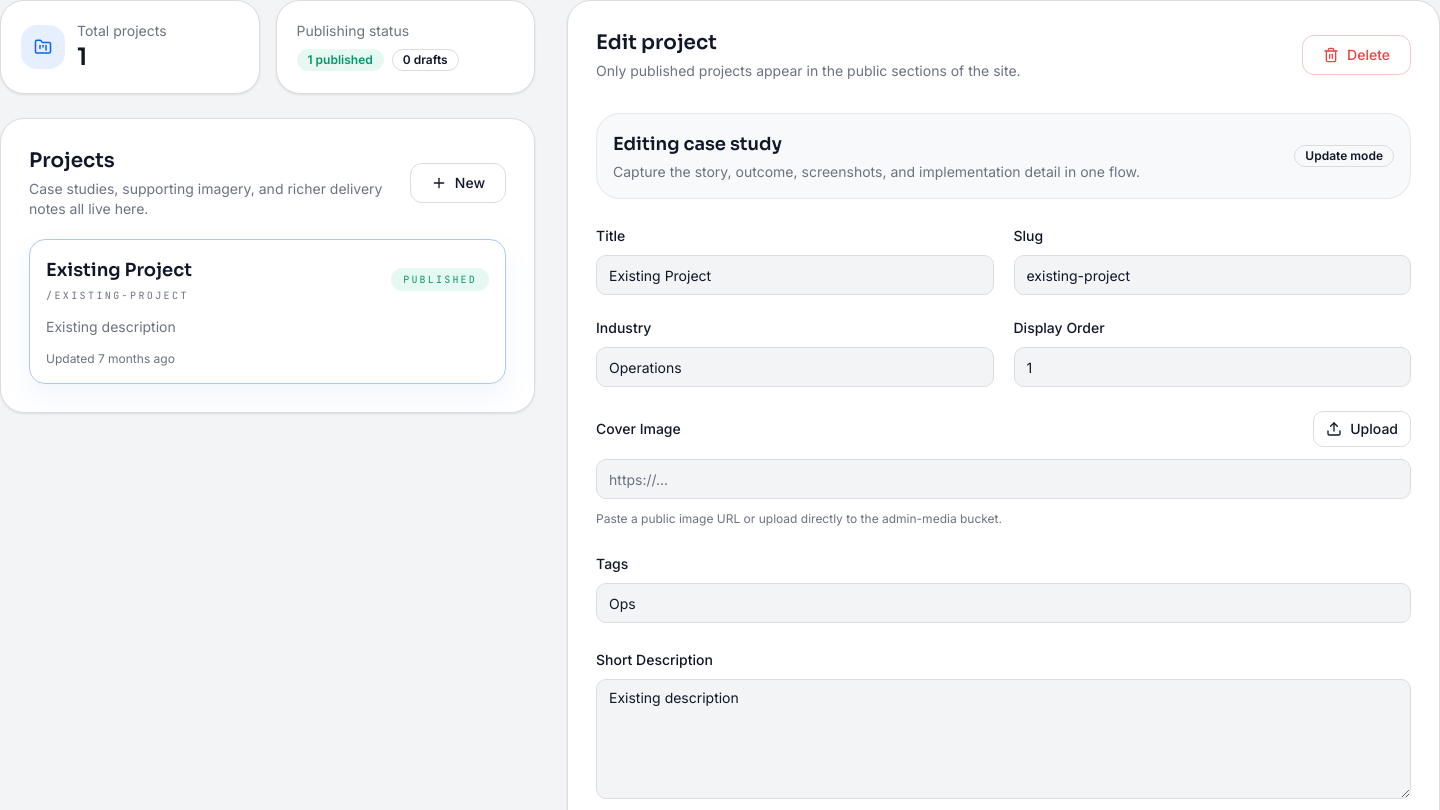
Test: admin managers › keeps the project form in create mode when clicking New with existing projects
Expected: the heading "Edit project" is shown, [596, 30, 717, 55]
Click the button "New" at (458, 183), box [410, 163, 506, 203]
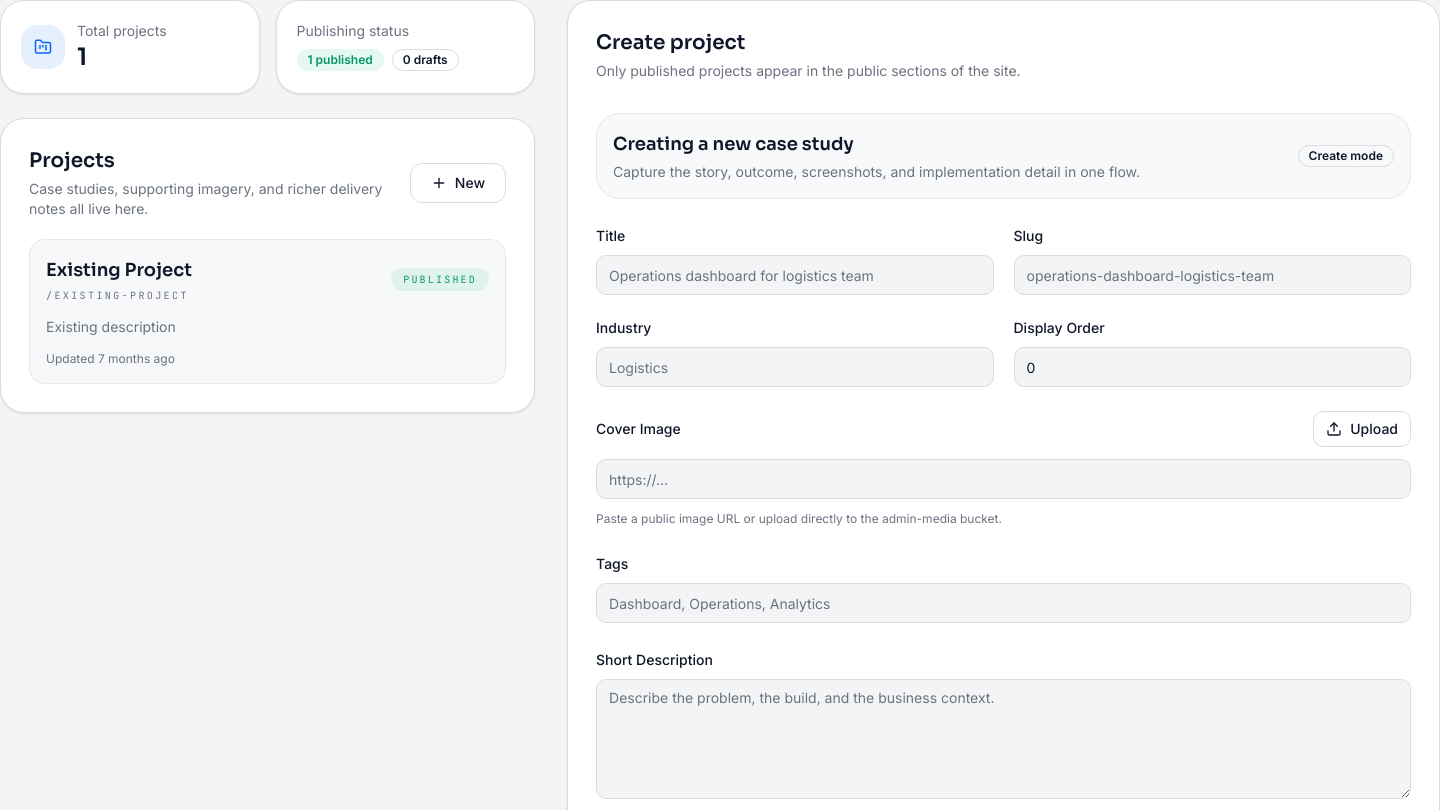
Result: the heading "Create project" is shown at [596, 30, 745, 55]
Result: the field labelled "Title" is empty at [596, 255, 994, 295]
